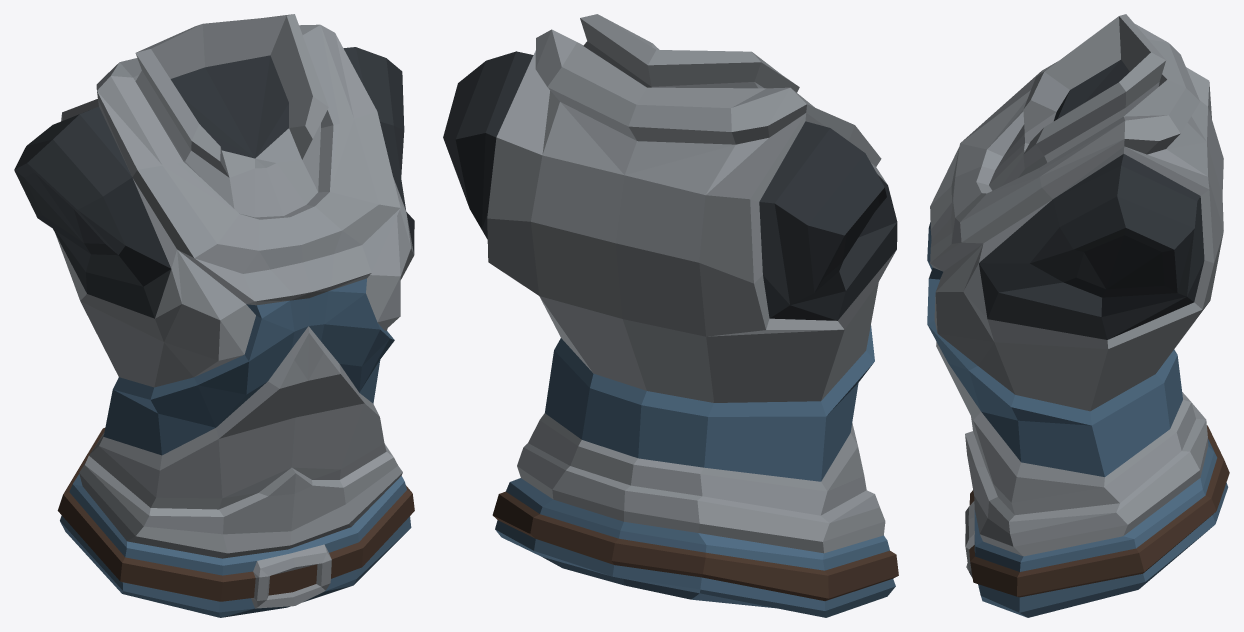
File: Chr_Torso_Female_20_Static.fbx
3 renders of one model, left to right at view 1: azimuth 30°, elevation 25°; view 2: azimuth 150°, elevation 25°; view 3: azimuth 270°, elevation 25°, orthographic. The views are drawn at different scales.
Visible parts, largest first — view 1: Chr_Torso_Female_20_Static; view 2: Chr_Torso_Female_20_Static; view 3: Chr_Torso_Female_20_Static.
Boxes of the visible parts, bbox=[...] form: Chr_Torso_Female_20_Static: bbox=[14, 14, 414, 617]; Chr_Torso_Female_20_Static: bbox=[443, 14, 898, 617]; Chr_Torso_Female_20_Static: bbox=[927, 14, 1229, 617].
Bounding box in the file's own units: 0.5171 × 0.6929 × 0.3612.
